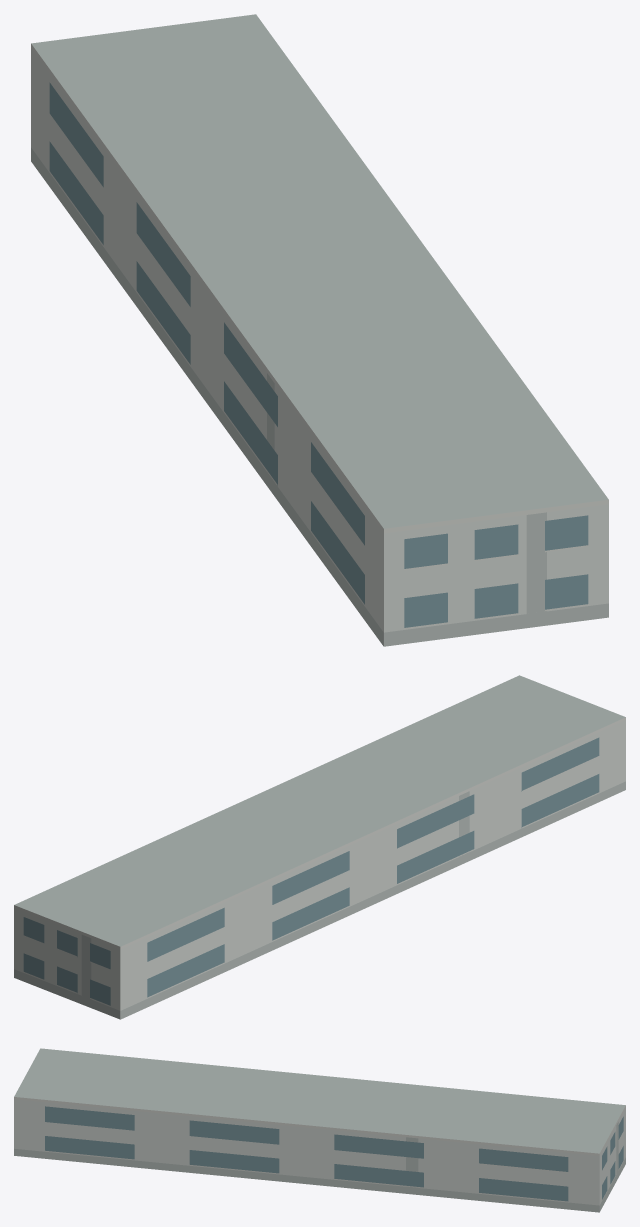
The model's file is residential-b3a24440-079e-4d6e-a54c-46b4fe9290d2.glb.
3 views of the same model, one above another, from view 1: azimuth 30°, elevation 25°; view 2: azimuth 150°, elevation 25°; view 3: azimuth 270°, elevation 25° (orthographic). The views are drawn at different scales.
Parts seen in each view (by area): view 1: residential-b3a24440-079e-4d6e-a54c-46b4fe9290d2.tmp; view 2: residential-b3a24440-079e-4d6e-a54c-46b4fe9290d2.tmp; view 3: residential-b3a24440-079e-4d6e-a54c-46b4fe9290d2.tmp.
Boxes of the visible parts, left/top/right/bottom form: residential-b3a24440-079e-4d6e-a54c-46b4fe9290d2.tmp: left=31, top=14, right=608, bottom=646; residential-b3a24440-079e-4d6e-a54c-46b4fe9290d2.tmp: left=14, top=675, right=625, bottom=1019; residential-b3a24440-079e-4d6e-a54c-46b4fe9290d2.tmp: left=14, top=1048, right=625, bottom=1212.
Size of the model in its own units: 23.37 by 6.1 by 57.41.
